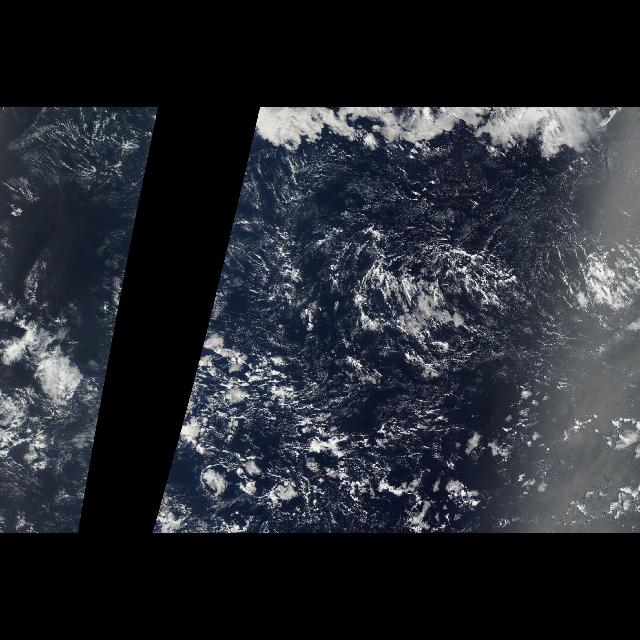Gravel: (154, 217, 636, 533), (42, 328, 116, 522)
Sugar: (264, 155, 606, 279), (4, 112, 158, 320)
